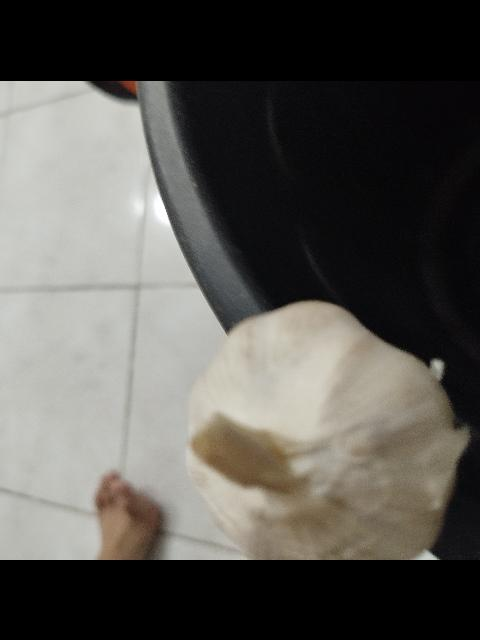garlic: (153, 285, 480, 554)
